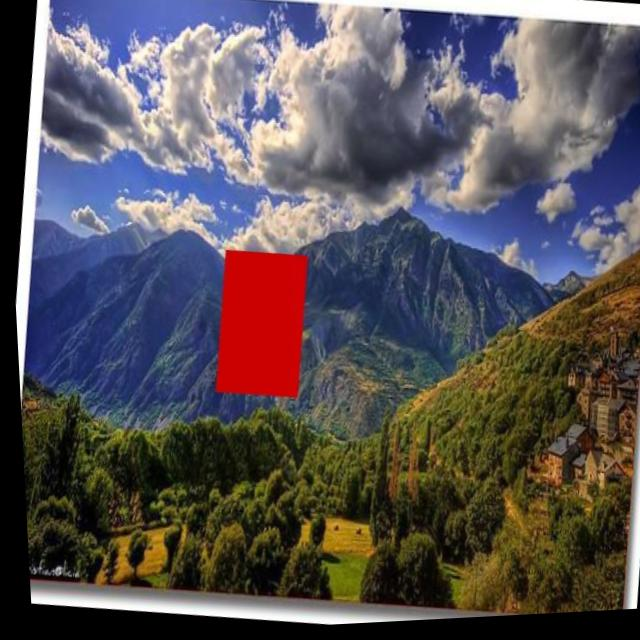RedSquare: (194, 236, 324, 419)
